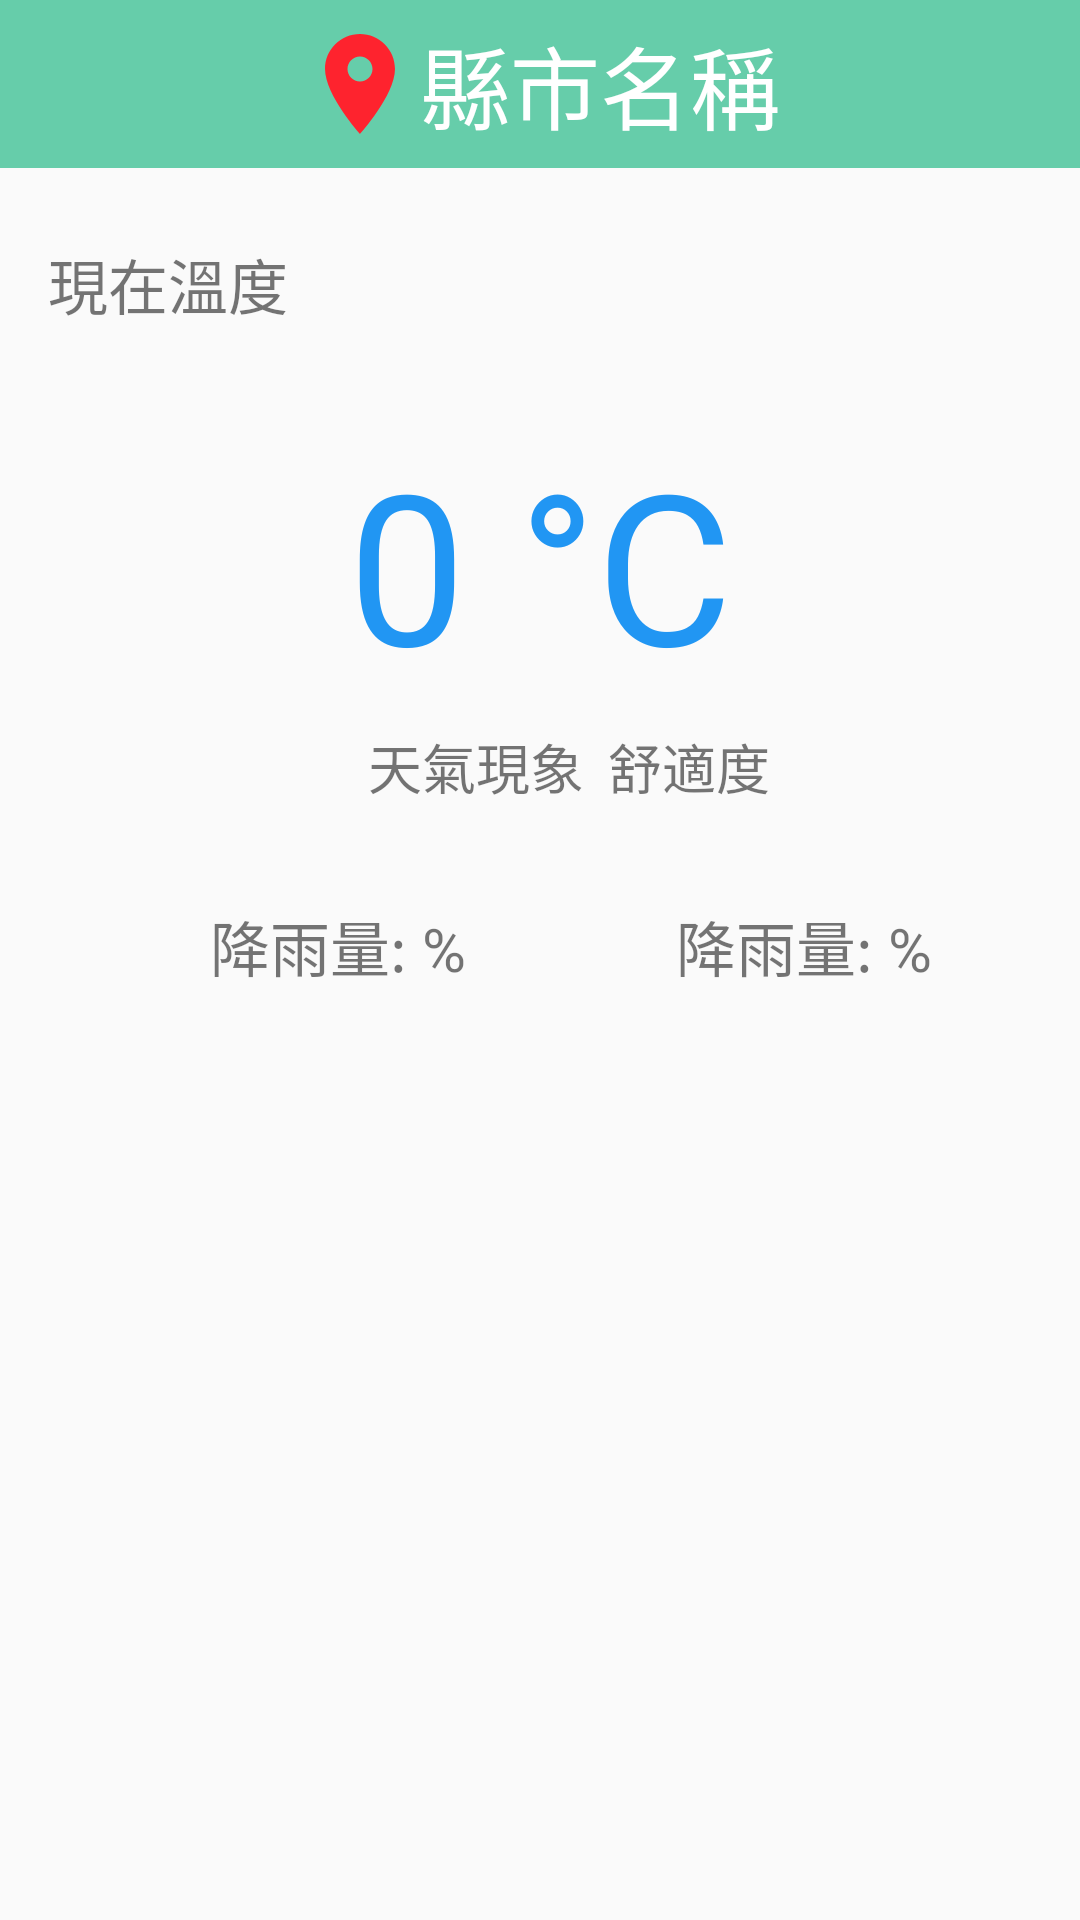

Named icons in this screenshot (1080px x 1920px) and their centers, point (x, y):
location on: point (360, 84)
